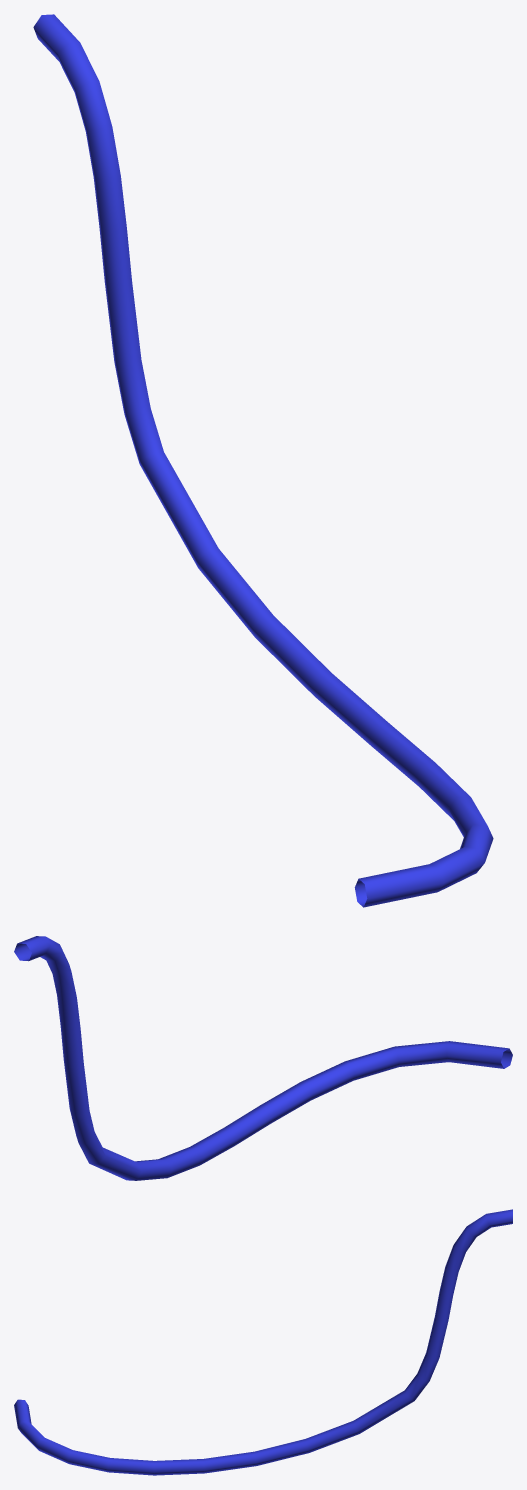
File: D_cable.fbx
The picture shows the model from 3 angles, top to bottom: view 1: azimuth 30°, elevation 25°; view 2: azimuth 150°, elevation 25°; view 3: azimuth 270°, elevation 25°; orthographic projection. The views are drawn at different scales.
Parts seen in each view (by area): view 1: cable; view 2: cable; view 3: cable.
Part boxes in pixels (left/top/right/bottom): cable: left=33, top=14, right=493, bottom=907; cable: left=14, top=936, right=512, bottom=1180; cable: left=14, top=1209, right=512, bottom=1475.
Size of the model in its own units: 121 by 279 by 489.
